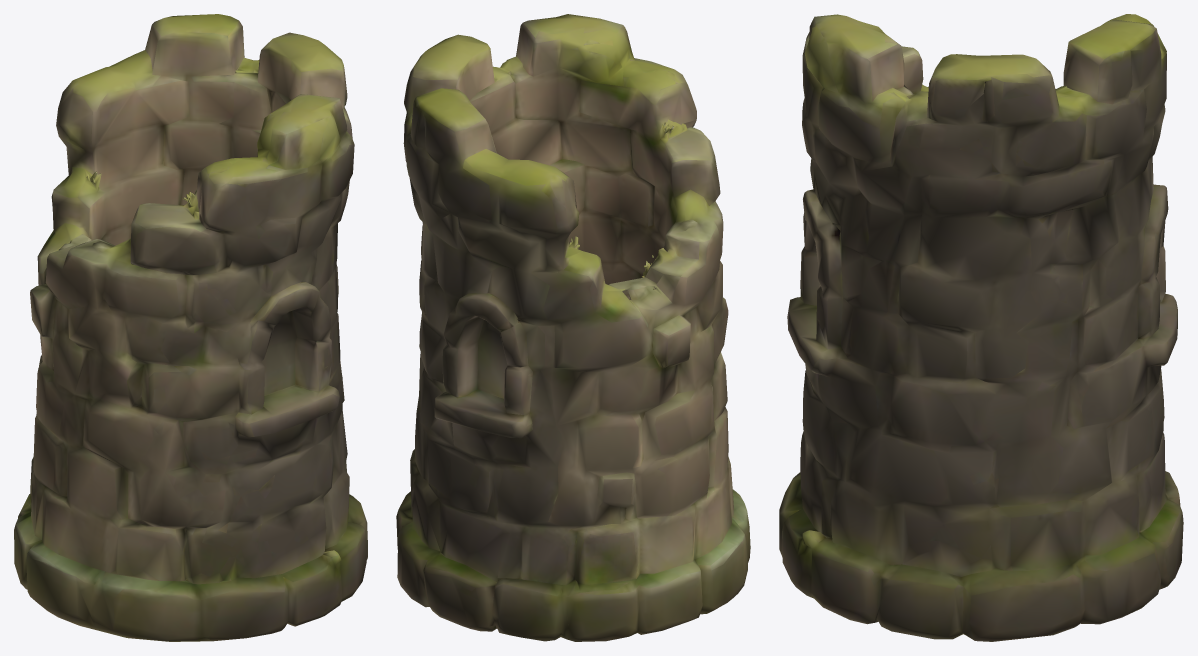
3 views of the same model, side by side, from view 1: azimuth 30°, elevation 25°; view 2: azimuth 150°, elevation 25°; view 3: azimuth 270°, elevation 25° (orthographic). The views are drawn at different scales.
Parts seen in each view (by area): view 1: world; view 2: world; view 3: world.
Boxes of the visible parts, bbox=[...] form: world: bbox=[14, 14, 367, 641]; world: bbox=[396, 14, 750, 641]; world: bbox=[779, 14, 1183, 641].
Size of the model in its own units: 0.6516 by 1 by 0.6457.
Materials: 1 (1 with a texture image).
